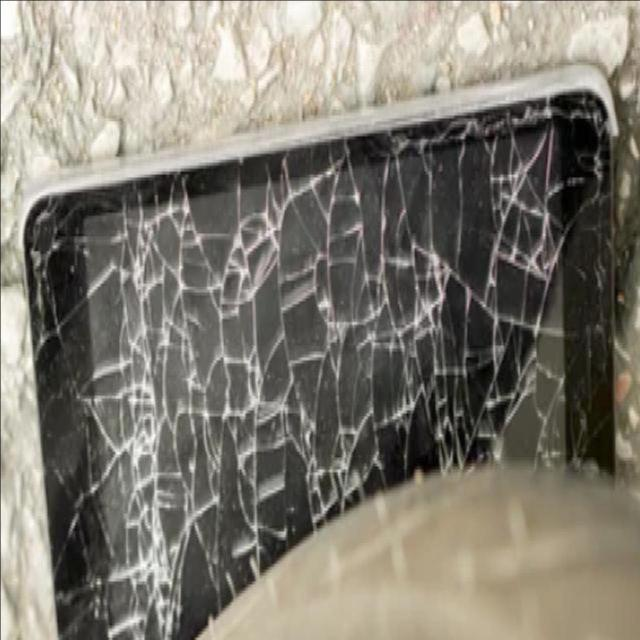Crack: (20, 57, 640, 273), (195, 275, 620, 459), (4, 276, 193, 620)
